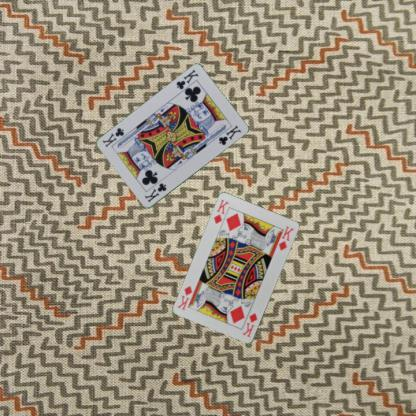Kc: (173, 67, 200, 91), (142, 181, 168, 204)
Kd: (240, 310, 259, 339), (211, 197, 230, 225)
